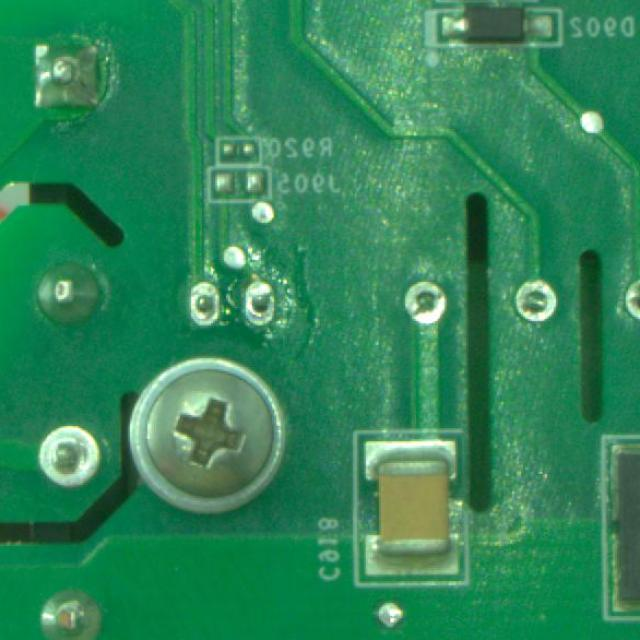Insufficient solder: (34, 418, 100, 495), (503, 270, 569, 326), (404, 268, 454, 336), (177, 277, 224, 329), (240, 278, 278, 328), (617, 270, 640, 324)
